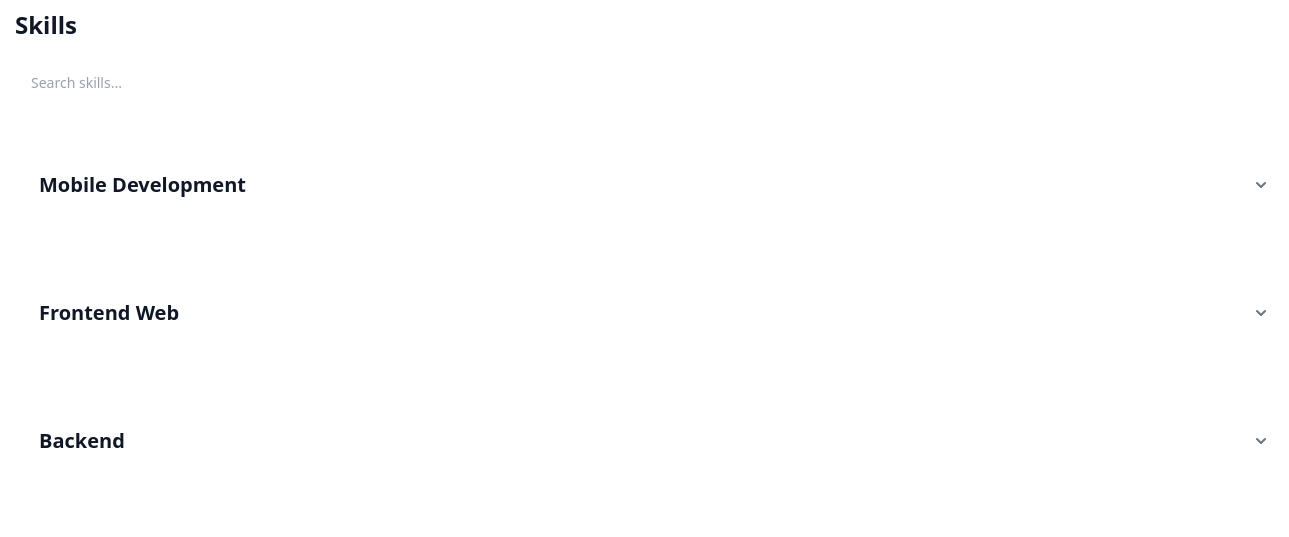
Scenario: SkillsSection Component › renders all skills within categories after expanding a card
Note: Skills are collapsed by default — clicking the title toggles the card.
Click the button "Mobile Development". click: x=142, y=184
box: [39,157,1271,213]
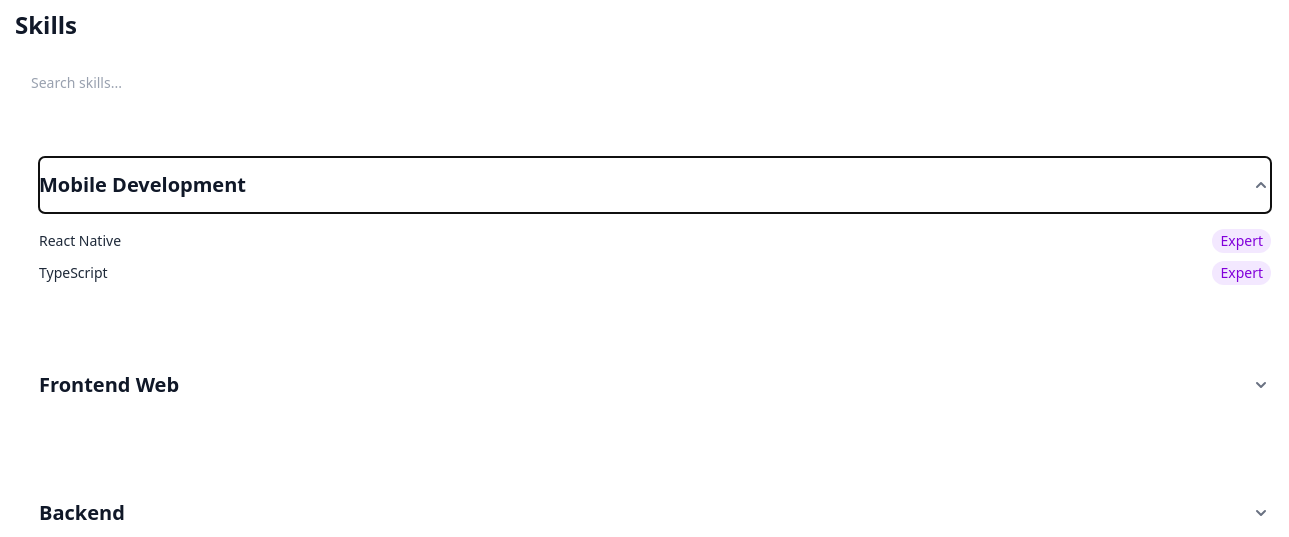
Now the text "React Native" is shown, box [39,231,121,251]
Now the text "TypeScript" is shown, box [39,263,108,283]
